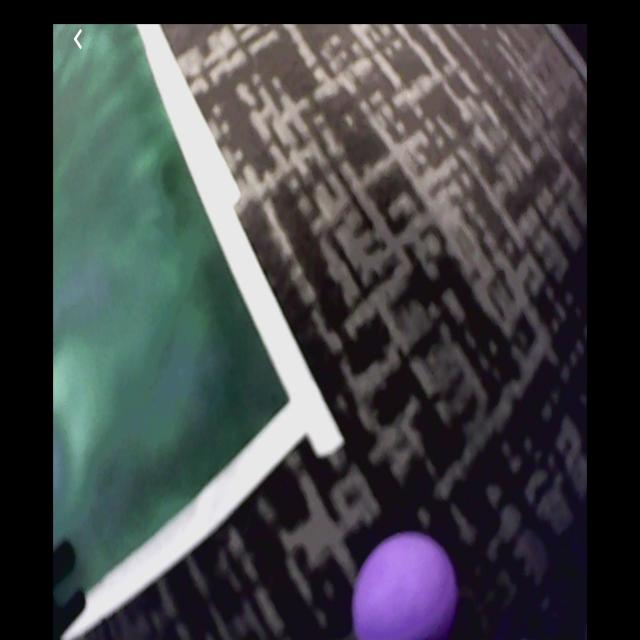ball: (352, 535, 462, 638)
